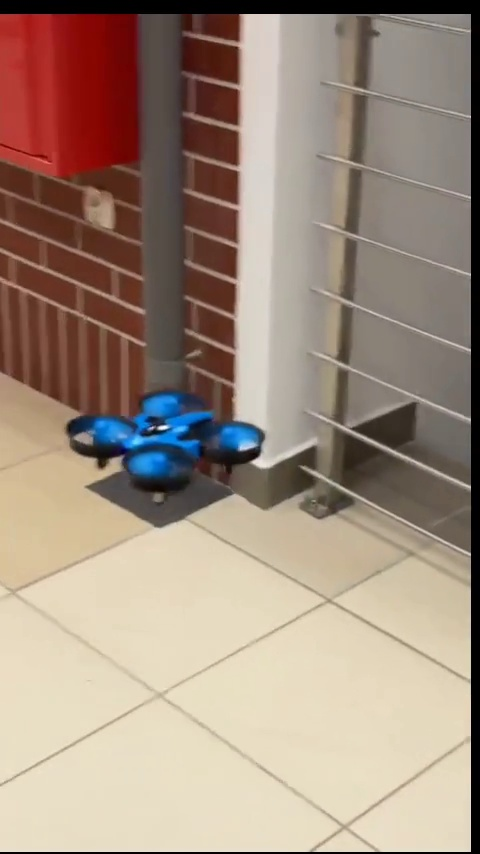drone: (71, 394, 256, 498)
